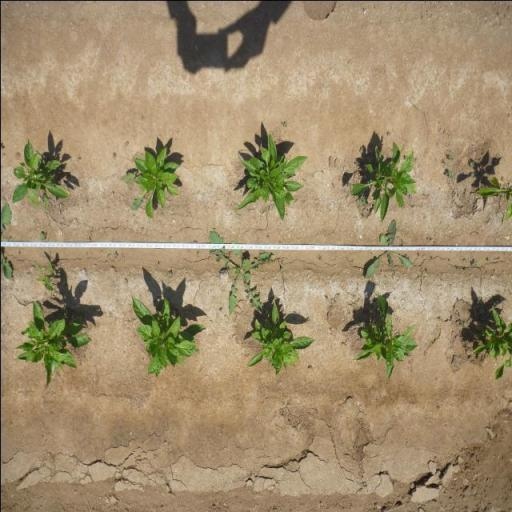plant: (128, 291, 210, 380), (12, 298, 94, 387), (234, 130, 308, 224), (351, 292, 420, 382), (244, 311, 320, 377), (11, 138, 68, 213), (366, 140, 418, 222), (130, 142, 182, 222), (473, 302, 512, 382), (474, 175, 512, 222)
weed: (206, 230, 272, 315), (362, 218, 414, 282), (0, 201, 14, 281), (31, 258, 58, 292), (354, 193, 368, 206), (444, 169, 454, 179), (37, 230, 46, 241), (352, 319, 362, 327), (166, 269, 172, 279), (280, 120, 286, 128), (468, 159, 474, 167), (471, 259, 476, 268), (86, 235, 92, 242), (446, 154, 453, 160), (426, 236, 432, 242), (469, 172, 475, 178), (316, 254, 322, 260), (195, 250, 200, 257), (460, 320, 464, 328), (437, 317, 443, 322), (76, 156, 81, 162), (385, 130, 390, 136), (112, 151, 116, 158), (191, 239, 198, 243), (277, 239, 282, 244), (463, 266, 467, 272), (106, 252, 110, 258), (84, 250, 88, 256), (455, 266, 460, 270), (486, 256, 489, 262), (265, 234, 269, 238), (280, 267, 282, 274), (114, 252, 116, 258), (156, 262, 158, 267)
